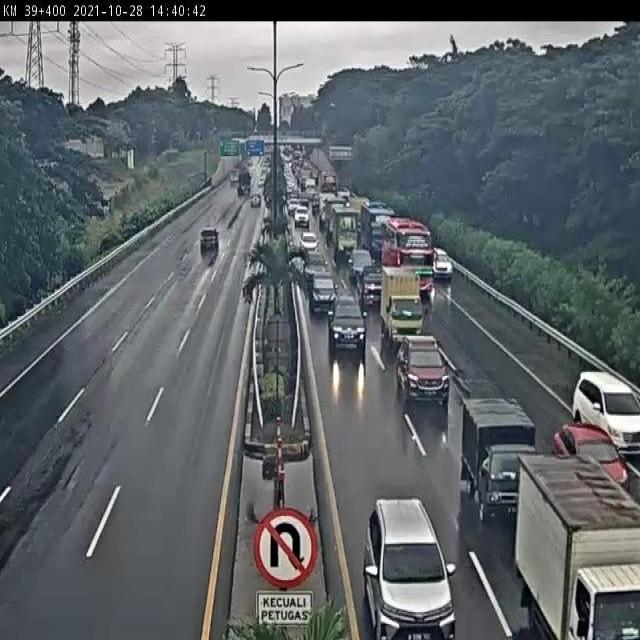big bus: (382, 218, 430, 294)
car: (367, 494, 455, 640), (575, 372, 640, 456), (554, 420, 625, 484), (396, 335, 451, 405), (327, 288, 365, 351), (310, 274, 335, 314), (361, 271, 385, 308), (432, 245, 454, 280), (347, 247, 373, 276), (195, 230, 219, 258), (304, 251, 328, 276)
small truck: (514, 456, 640, 640), (461, 397, 539, 523), (380, 266, 423, 342)
